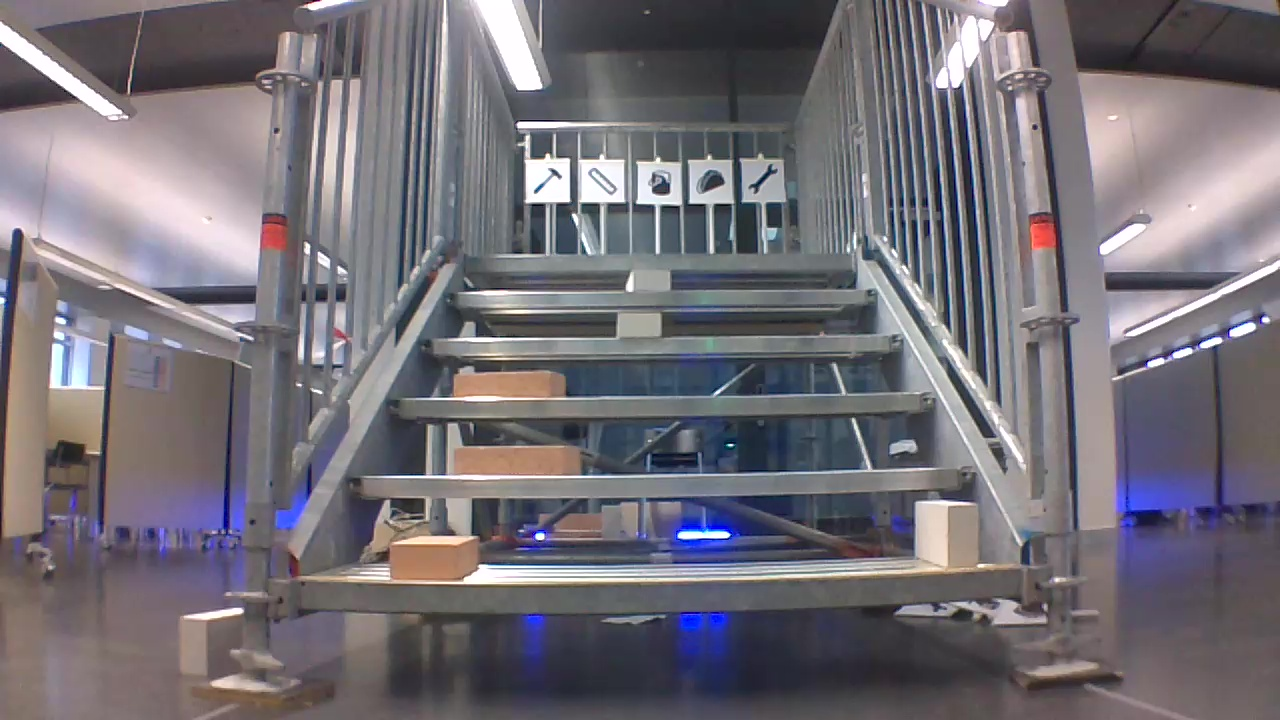brick: (448, 442, 585, 480), (386, 530, 484, 583), (914, 498, 979, 568), (178, 606, 242, 673), (452, 371, 571, 398), (618, 315, 665, 338), (627, 268, 669, 291)
bucket: (646, 169, 675, 197)
edge: (277, 564, 1026, 614), (344, 462, 971, 500), (425, 331, 908, 360), (394, 389, 938, 413), (446, 282, 880, 307), (460, 248, 857, 274)
hammer: (532, 163, 565, 194)
ruler: (588, 166, 615, 198)
stairs: (241, 0, 1076, 701)
steps: (272, 248, 1026, 618)
taco: (692, 167, 729, 194)
wrench: (748, 162, 778, 195)
